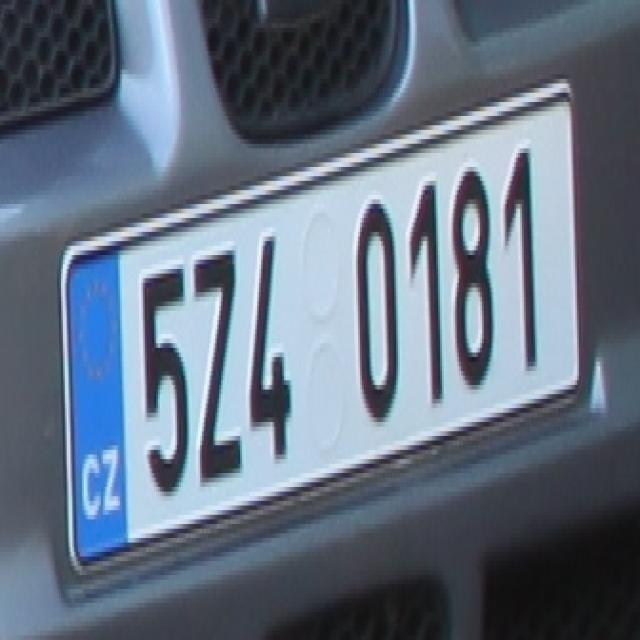0: (352, 190, 398, 422)
1: (497, 134, 545, 380), (403, 172, 448, 408)
4: (248, 227, 293, 459)
5: (133, 259, 187, 492)
8: (449, 143, 494, 390)
Z: (194, 255, 244, 478)
